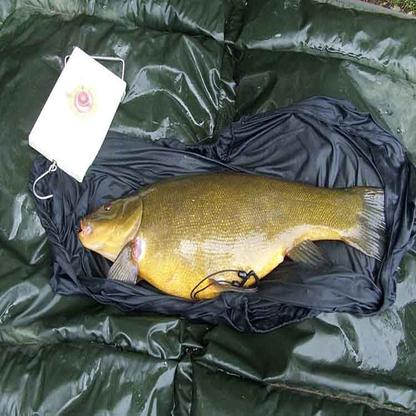fish: (70, 169, 390, 305)
